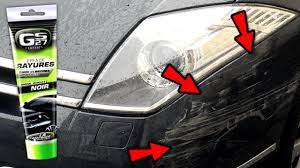scratch: (173, 102, 291, 156)
